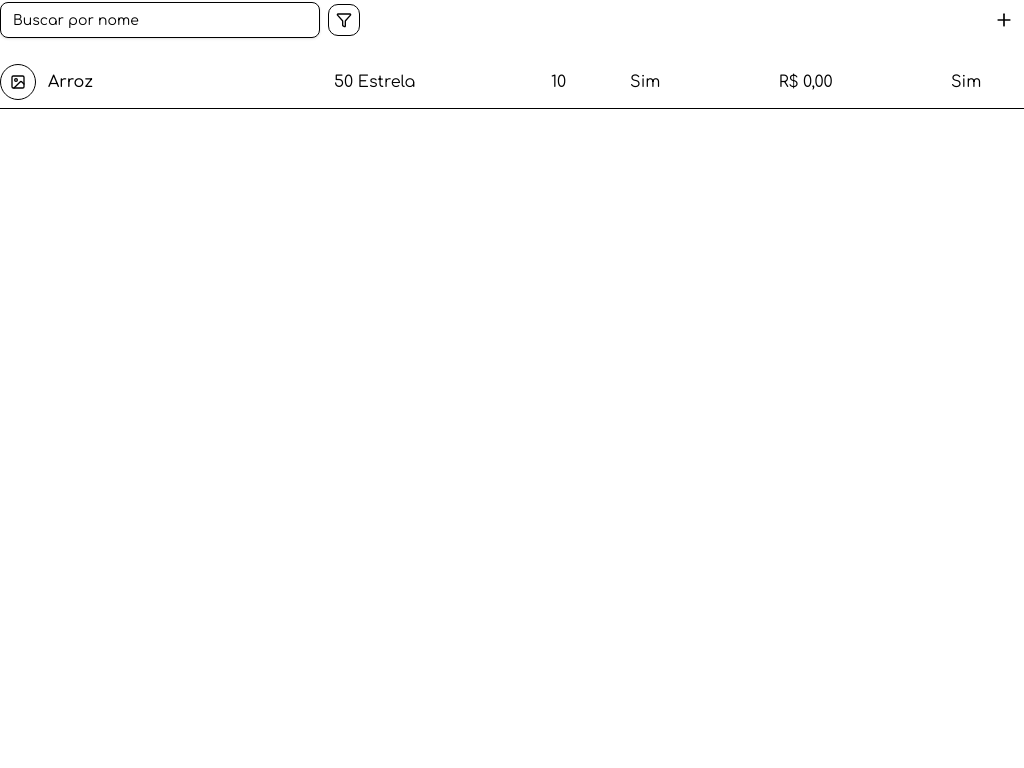
Test case: AwardManager › closes modal on cancel
Click the button "Arroz 50 Estrela 10 Sim R$ 0,00 Sim" at (18, 82), box x1=0 y1=56 x2=1023 y2=108
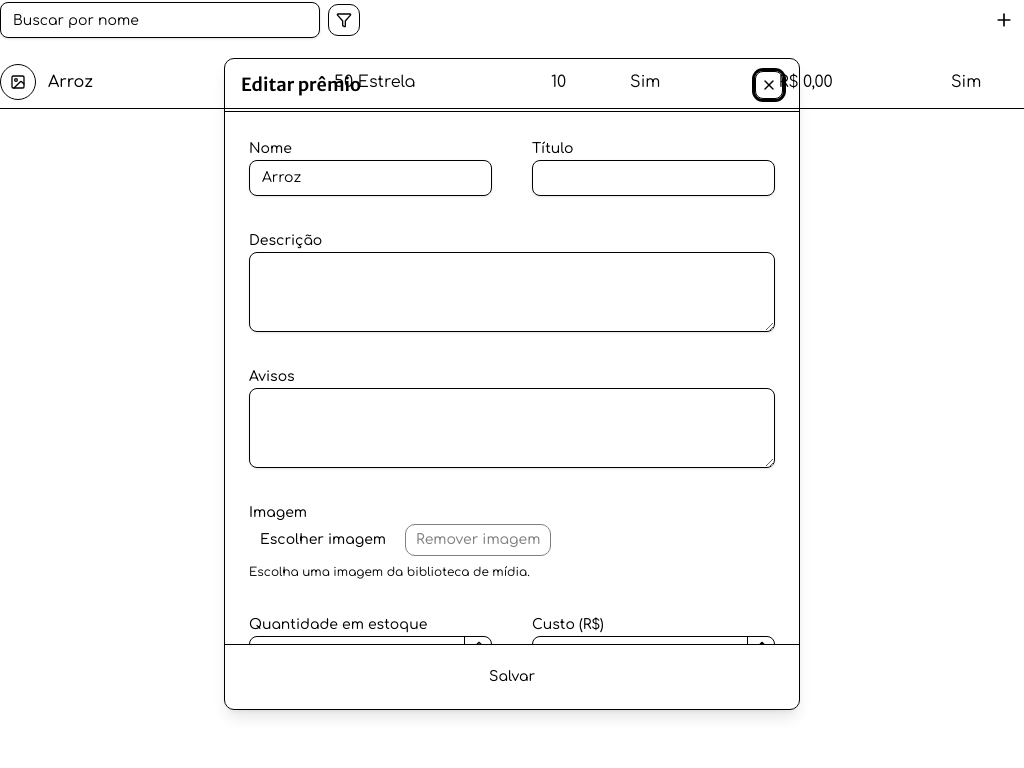
Click the button named "Fechar" at (769, 85), box x1=755 y1=71 x2=783 y2=99
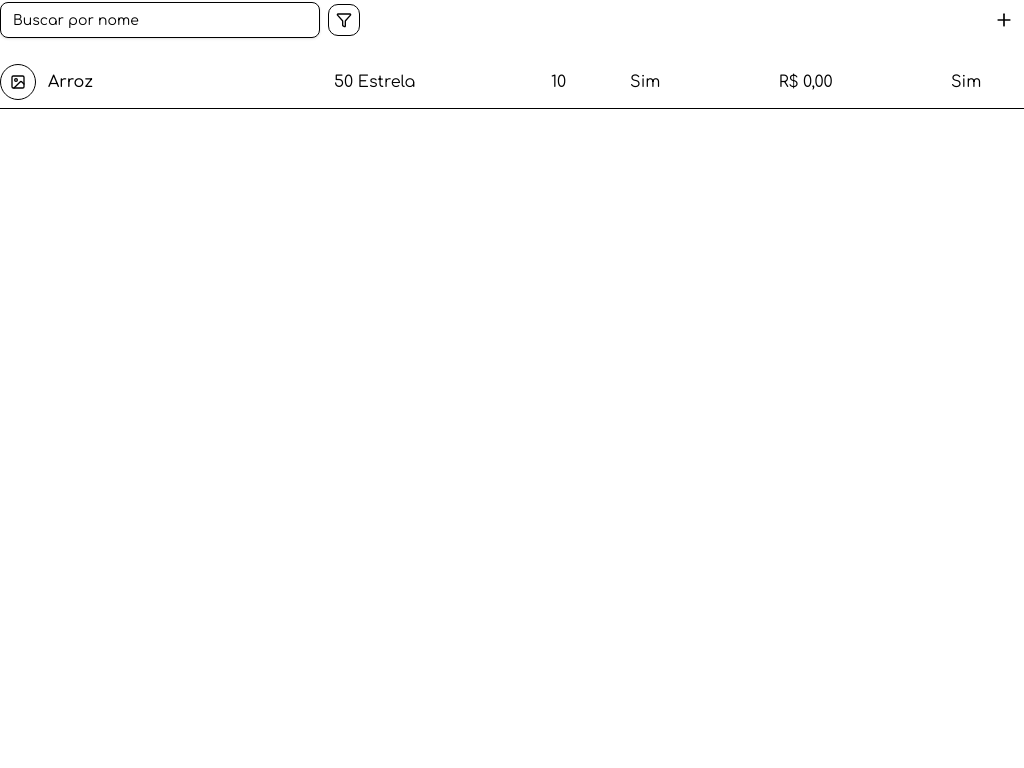
Check: the dialog is gone
